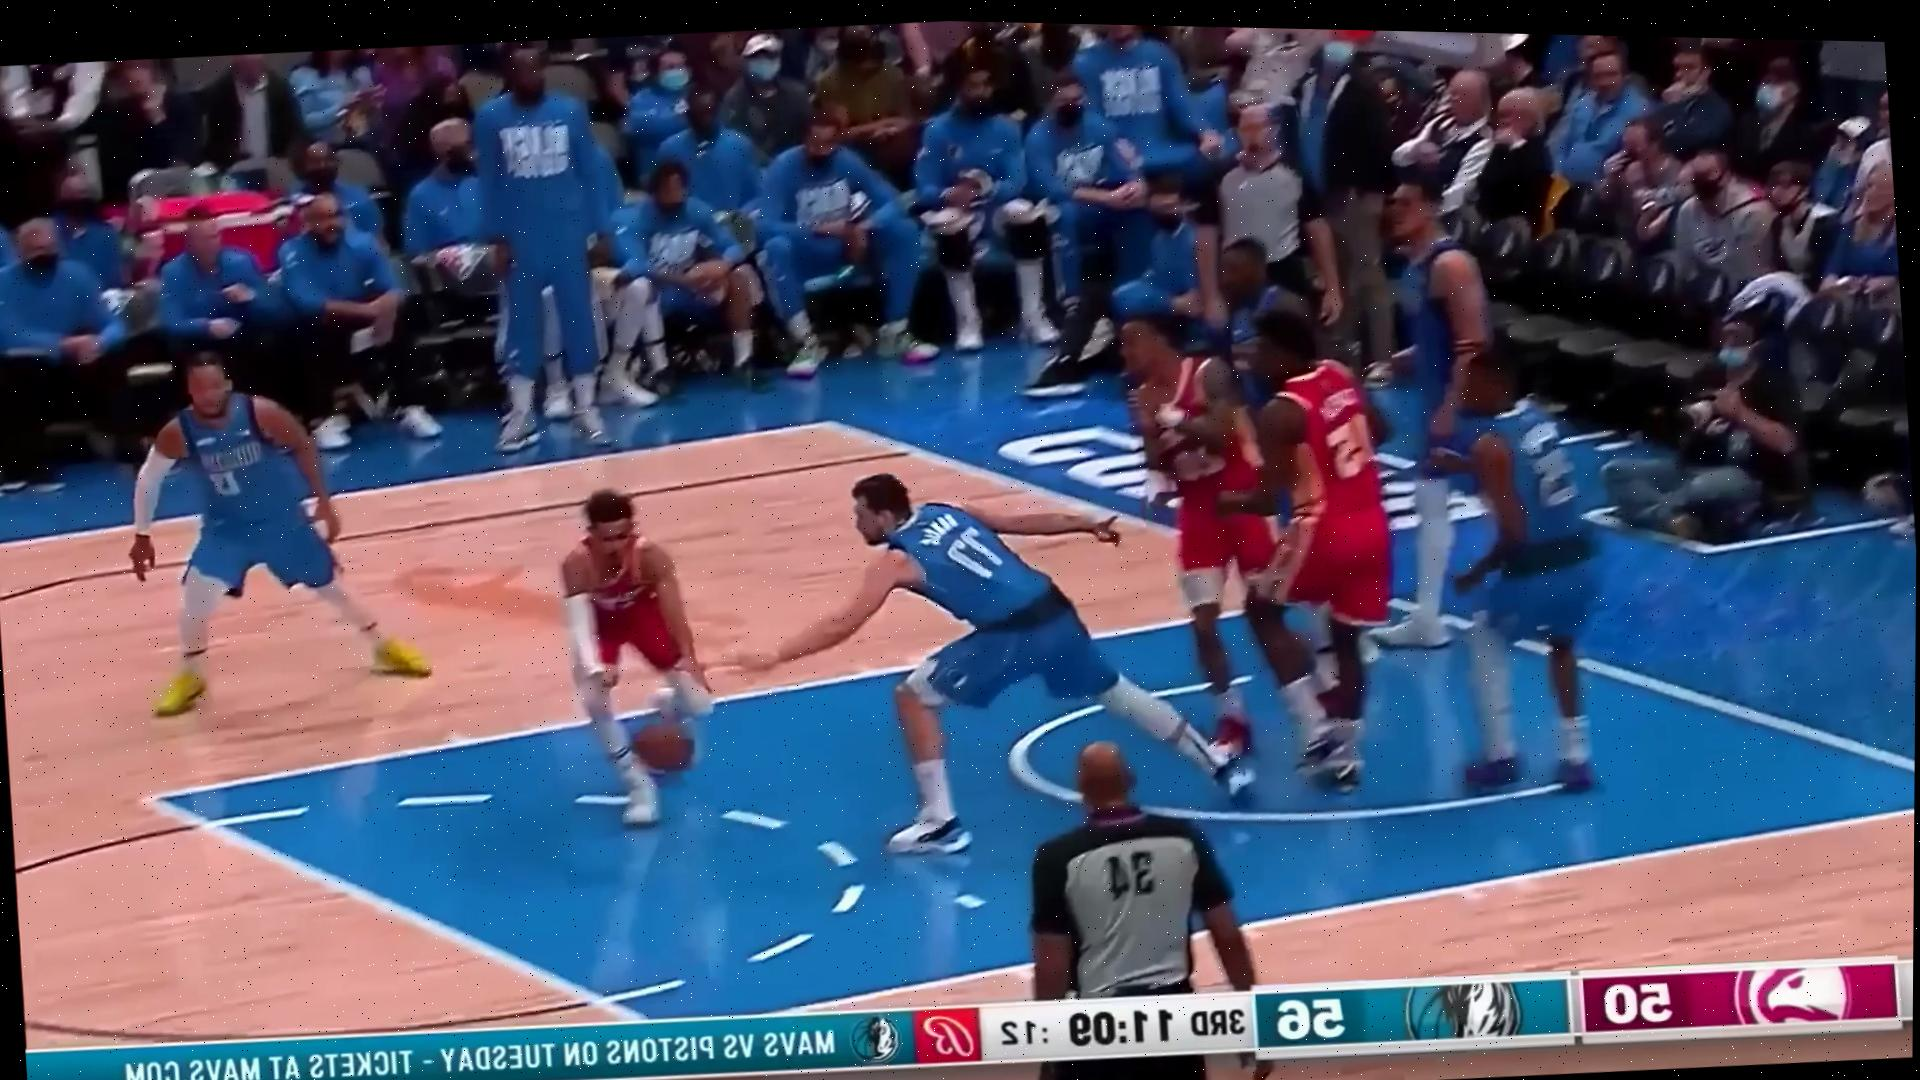no_foul: (504, 418, 1185, 837)
